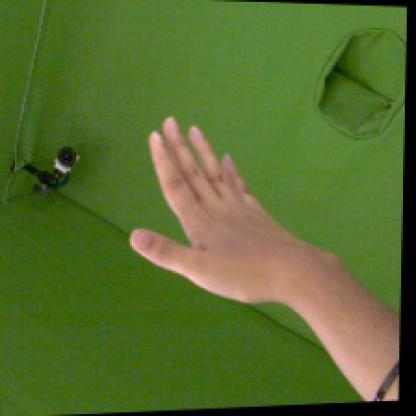Hand: (130, 114, 306, 304)
